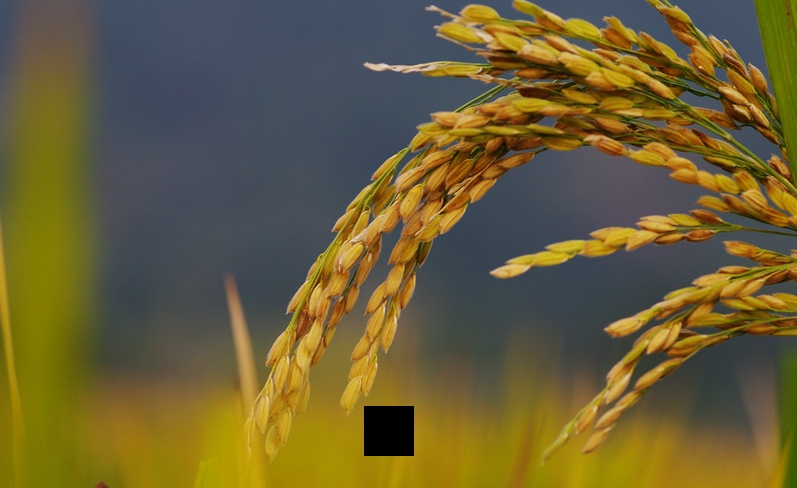rice: (244, 2, 796, 458)
